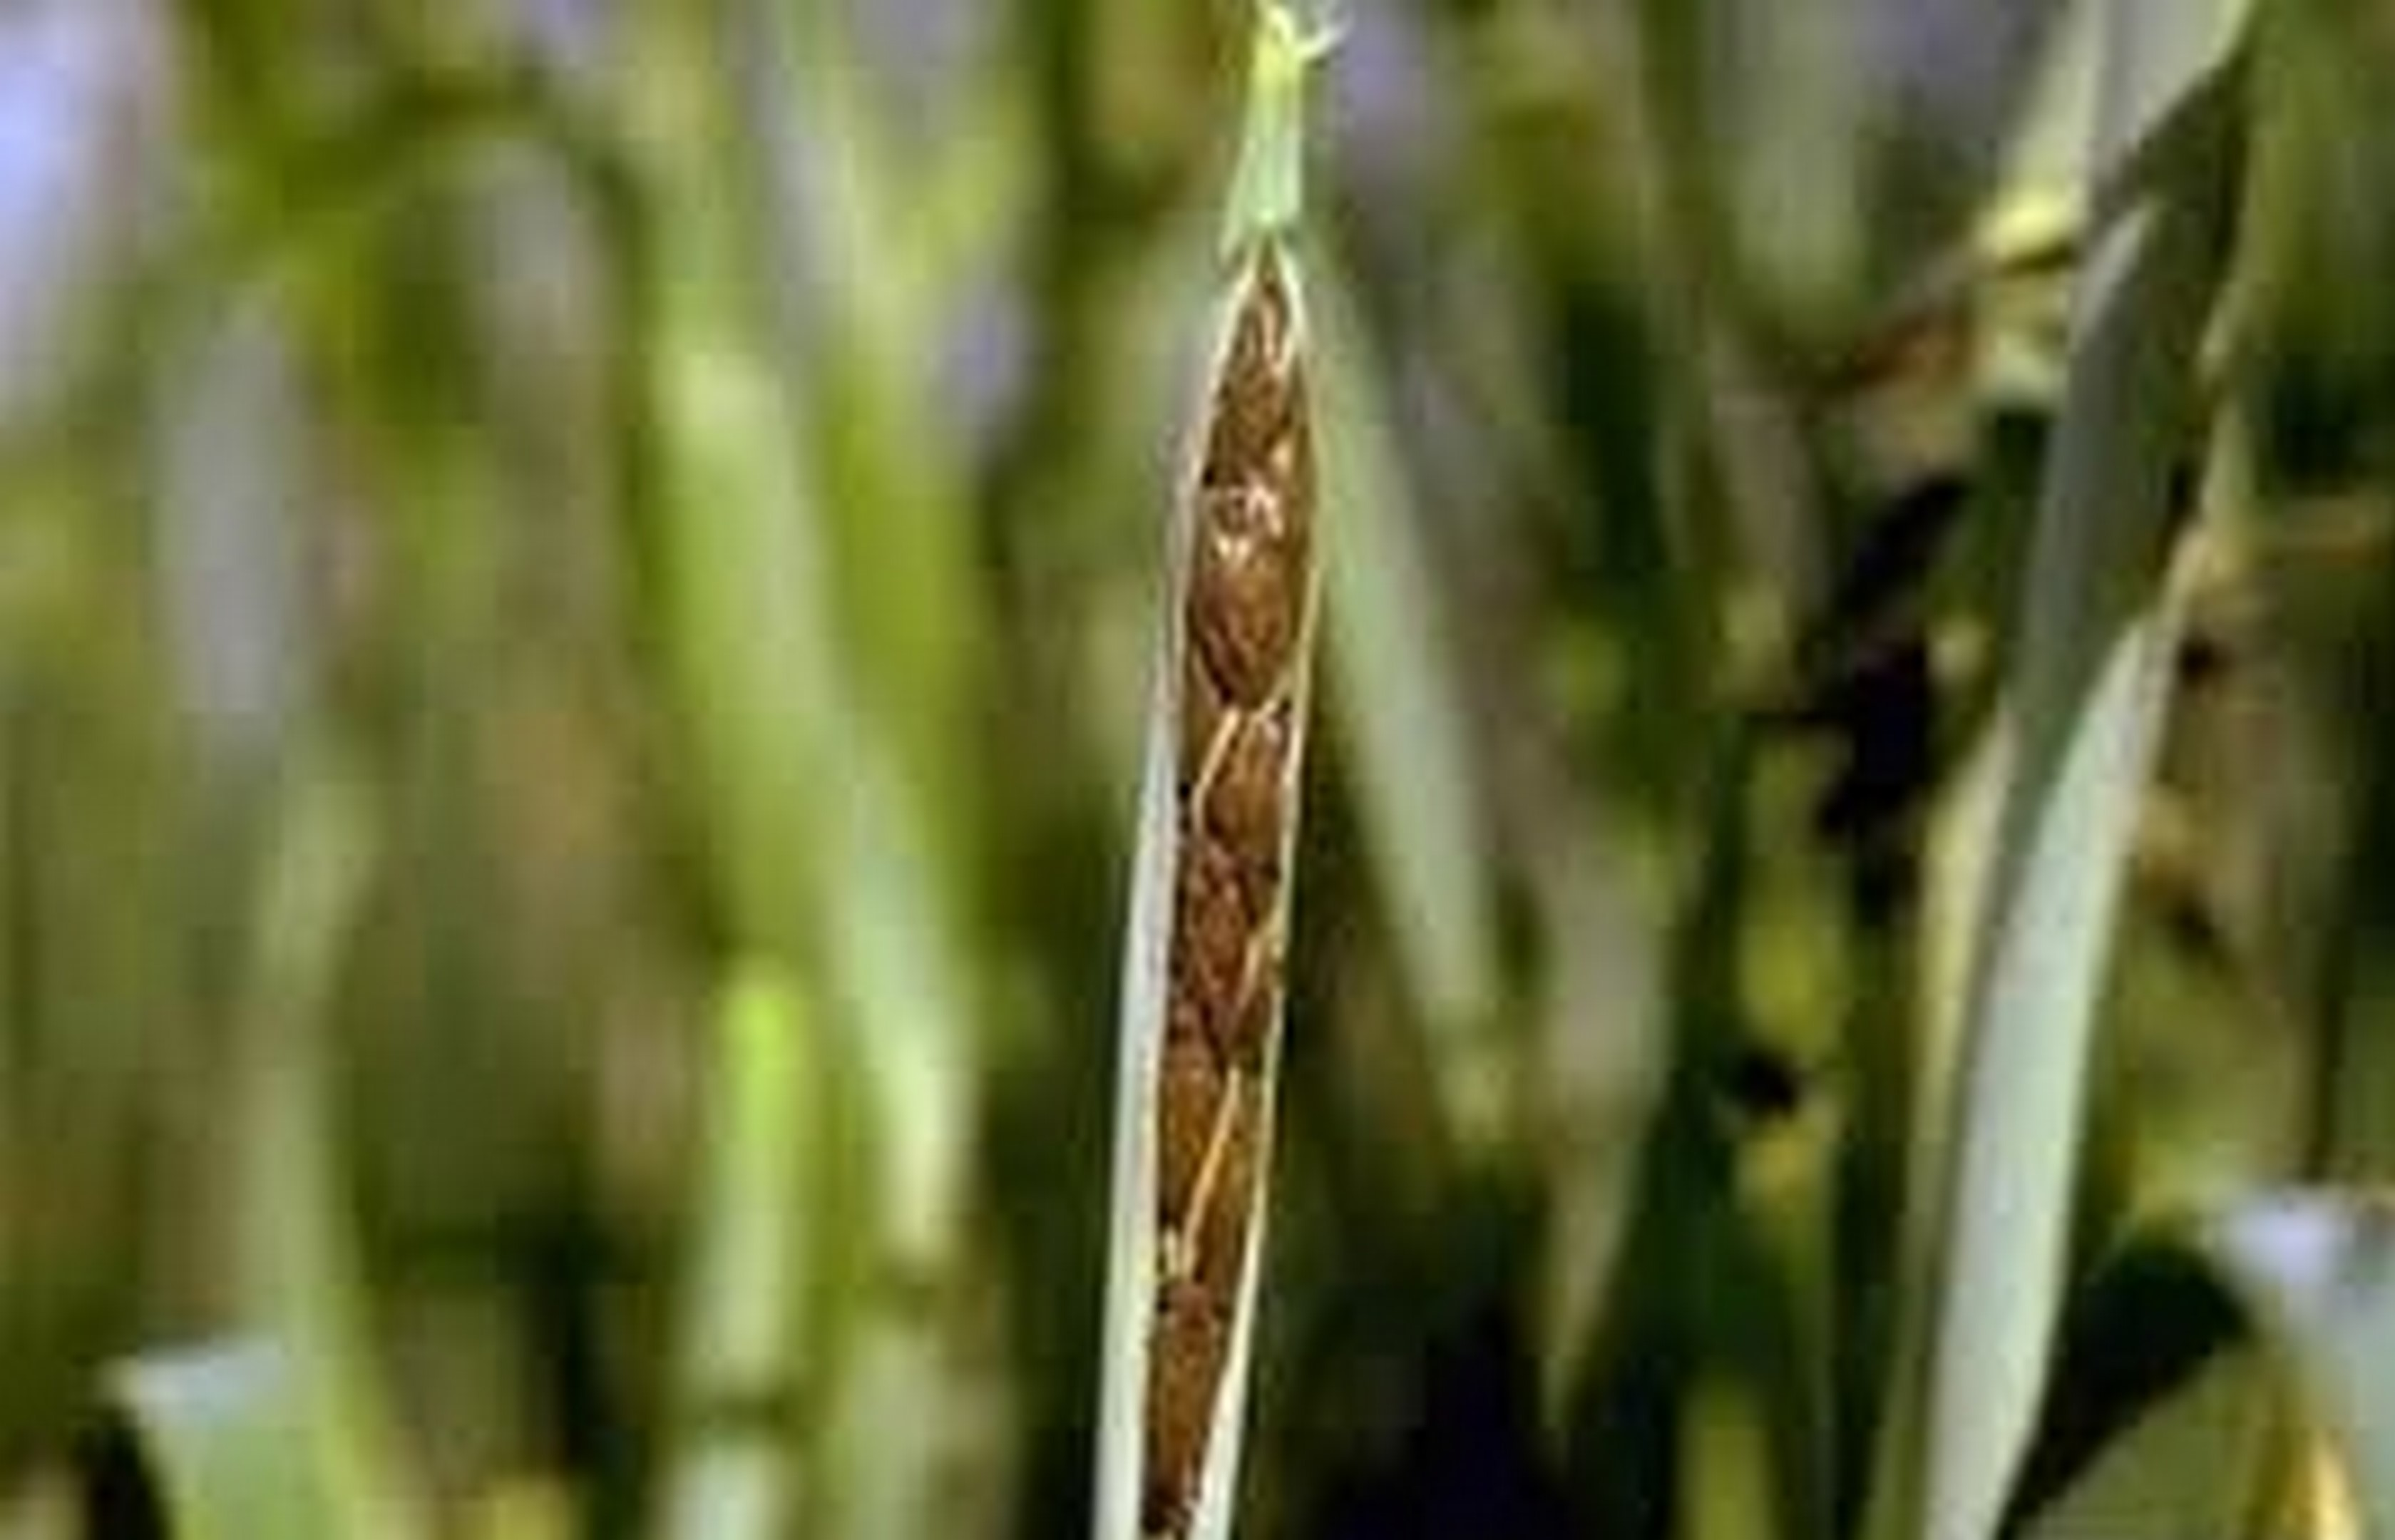Wheat Loose Smut: (1053, 288, 1353, 1386)
